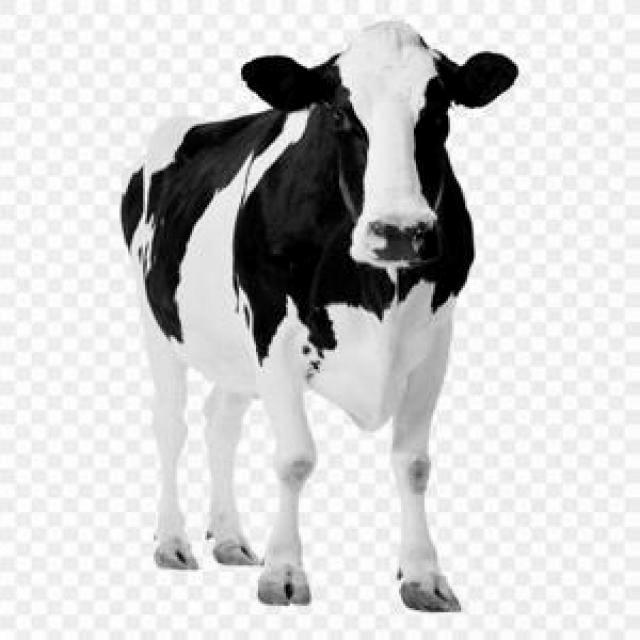COW: (121, 22, 516, 610)
